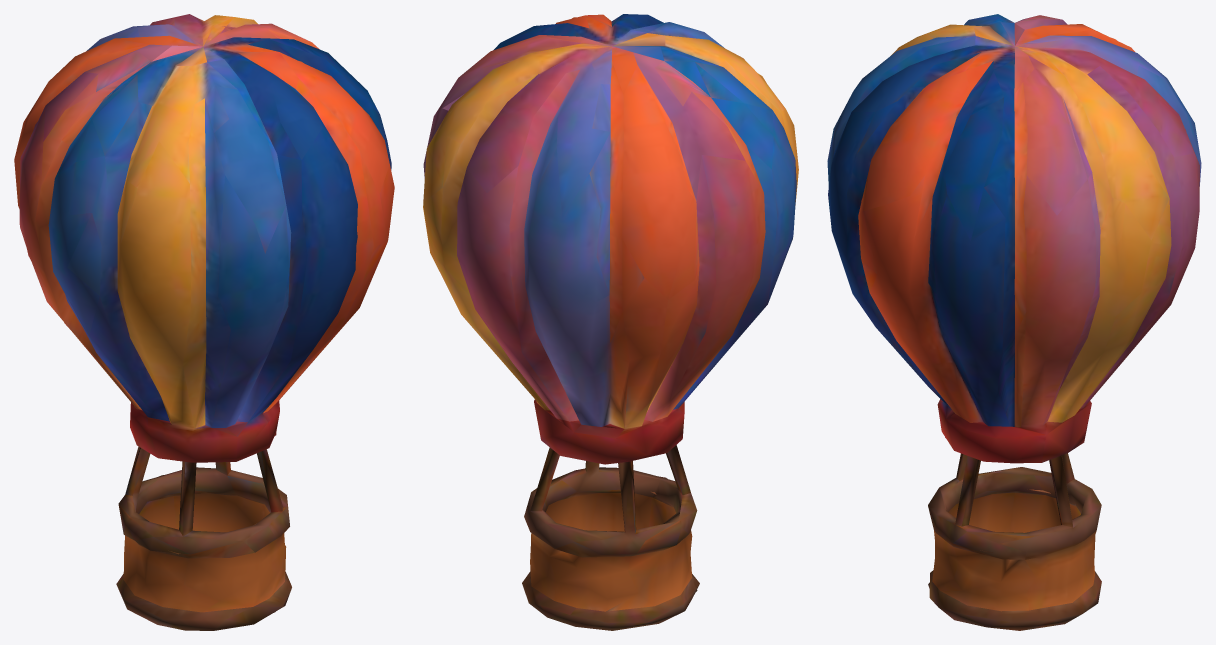
The model's file is lg-hot-air-balloon.glb.
3 views of the same model, side by side, from view 1: azimuth 30°, elevation 25°; view 2: azimuth 150°, elevation 25°; view 3: azimuth 270°, elevation 25° (orthographic).
Visible parts, largest first — view 1: geometry_0; view 2: geometry_0; view 3: geometry_0.
Part boxes in pixels (bbox=[...]): geometry_0: bbox=[14, 14, 394, 630]; geometry_0: bbox=[423, 14, 798, 630]; geometry_0: bbox=[827, 14, 1201, 630].
Size of the model in its own units: 0.6117 by 1 by 0.612.
Materials: 1 (1 with a texture image).
